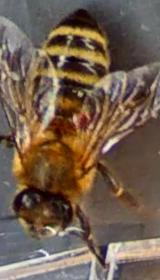varroa_mite: (52, 98, 104, 142)
